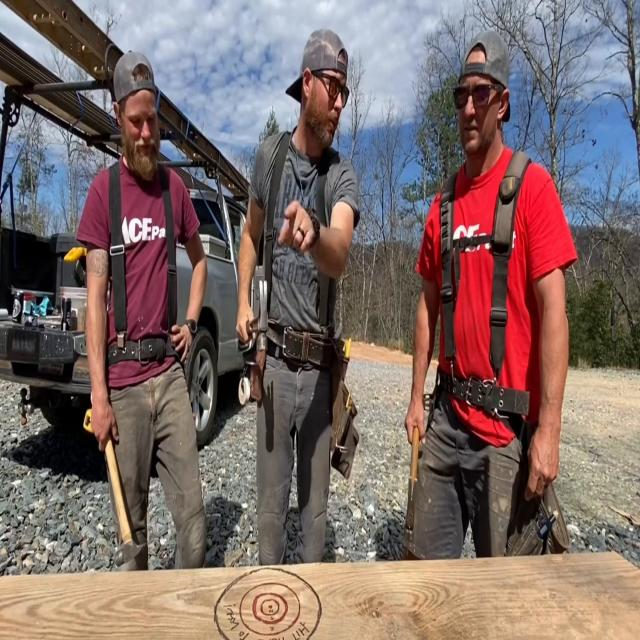hammer: (105, 434, 146, 566), (404, 427, 419, 542)
